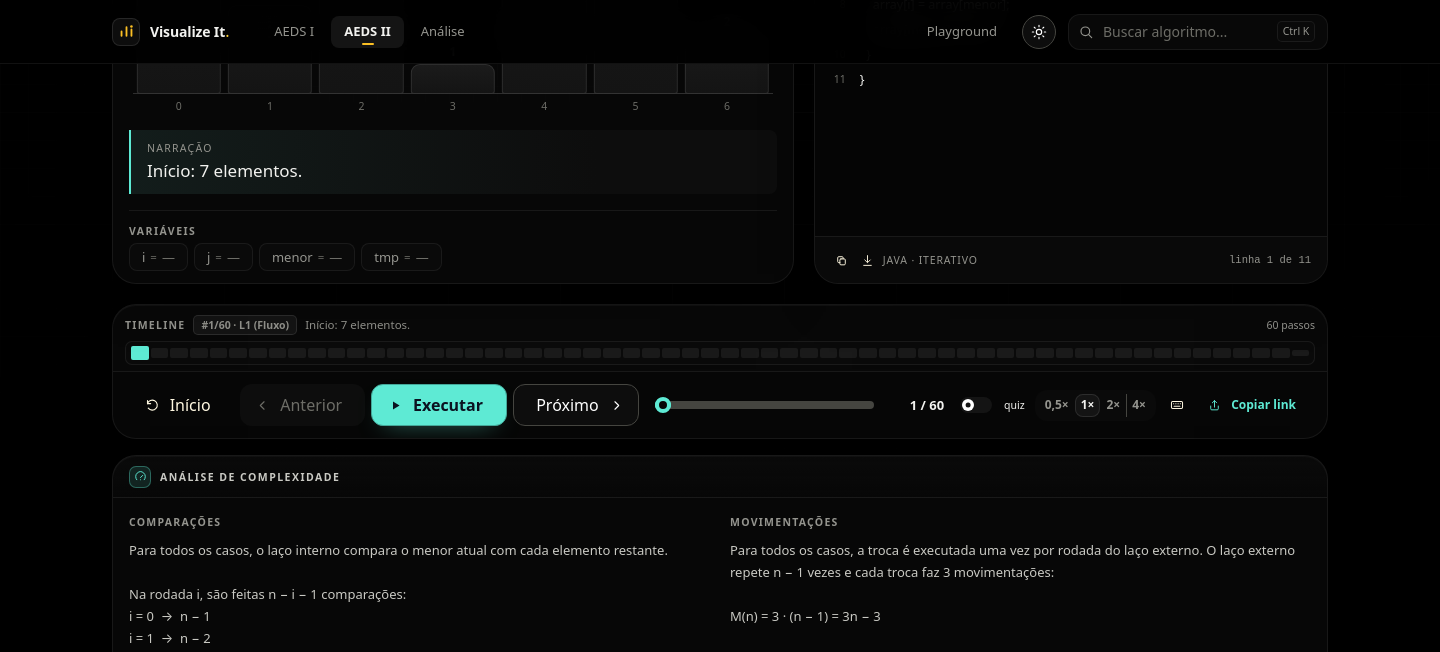
Test: App › toggles quiz mode on a bars lesson
(page scrolled)
Step 1. Click the switch labelled "quiz" → (992, 405), box [960,397,1025,413]
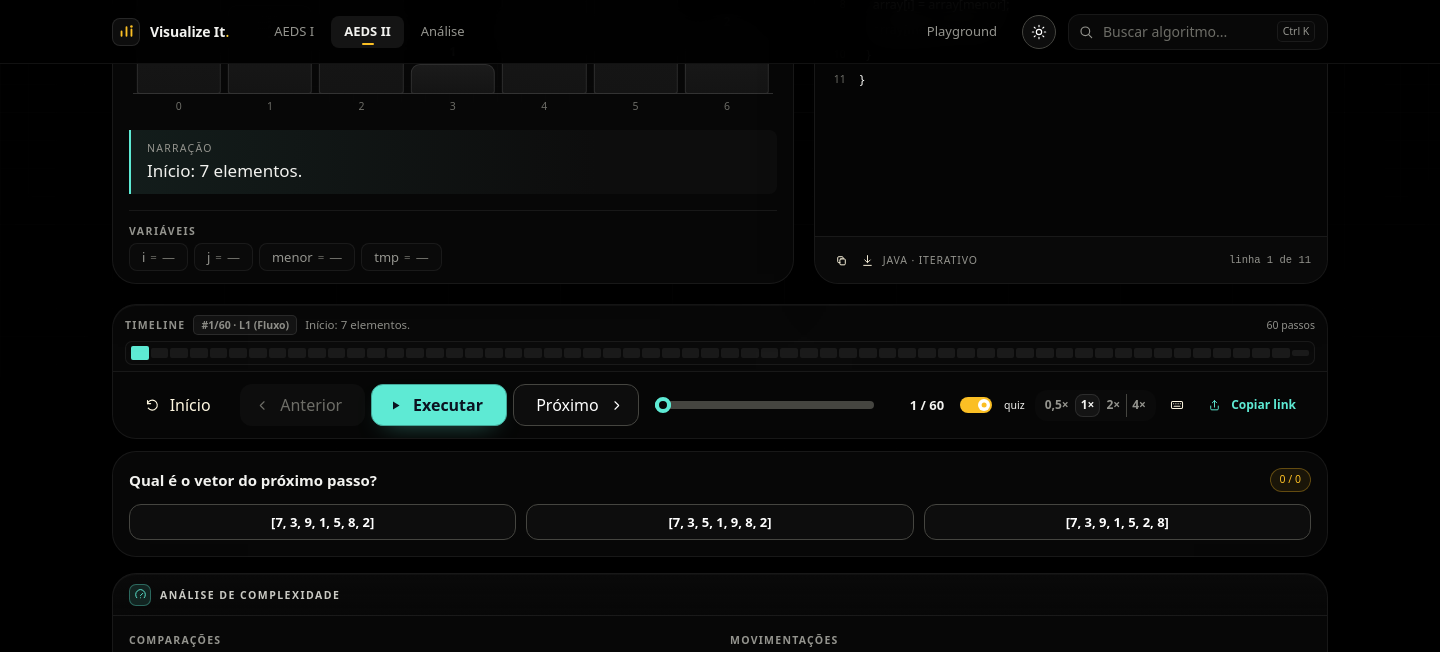
Check: the text "Qual é o vetor do próximo passo?" is shown, box [129,469,377,492]
